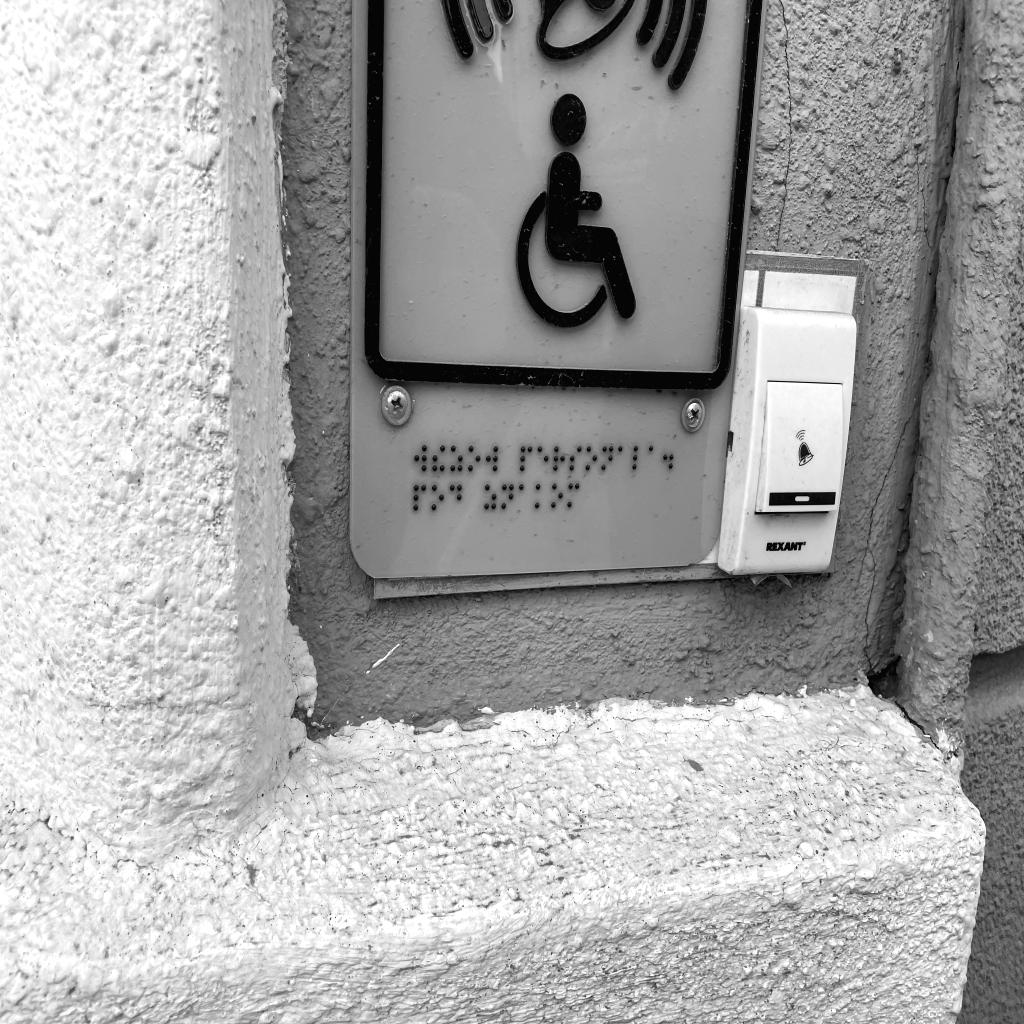_n: (501, 483, 514, 510), (601, 445, 614, 471)
a: (617, 445, 630, 471), (648, 444, 660, 471), (519, 483, 531, 509)
d: (449, 484, 462, 511)
e: (537, 445, 549, 472)
ii: (432, 444, 446, 472)
k: (535, 484, 547, 509)
l: (632, 445, 645, 471)
m: (567, 482, 580, 508)
o: (468, 445, 481, 472), (585, 445, 598, 472), (432, 484, 445, 511), (552, 483, 564, 508)
p: (519, 445, 533, 472), (413, 484, 426, 511)
r: (553, 445, 565, 472)
s: (569, 445, 582, 471)
tochka: (663, 444, 674, 470)
v: (414, 445, 427, 472), (486, 444, 498, 472)
z: (450, 445, 463, 472), (484, 484, 497, 510)
